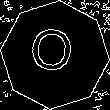O_S: (31, 28, 79, 82)
